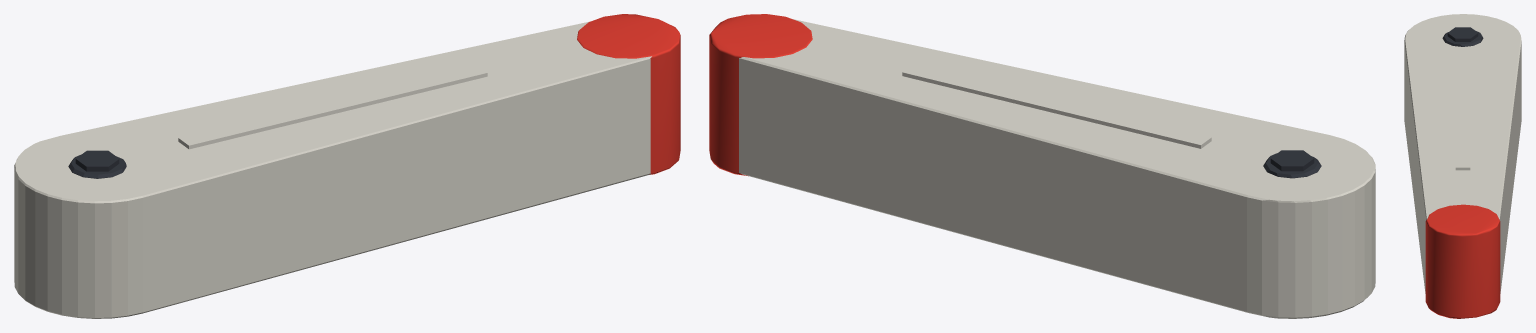
The model's file is Pinball_Flipper.glb.
3 renders of one model, left to right at view 1: azimuth 30°, elevation 25°; view 2: azimuth 150°, elevation 25°; view 3: azimuth 270°, elevation 25°, orthographic. The views are drawn at different scales.
Parts seen in each view (by area): view 1: Bat, Tip, Pin; view 2: Bat, Tip, Pin; view 3: Bat, Tip, Pin.
Boxes of the visible parts, <box> form: Bat: <box>14,21,651,318</box>; Tip: <box>577,14,680,174</box>; Pin: <box>68,150,126,178</box>; Bat: <box>739,19,1375,318</box>; Tip: <box>709,14,812,176</box>; Pin: <box>1263,150,1321,178</box>; Bat: <box>1404,14,1521,293</box>; Tip: <box>1425,204,1500,318</box>; Pin: <box>1442,27,1483,46</box>.
Size of the model in its own units: 0.113 by 0.0214 by 0.0252.
